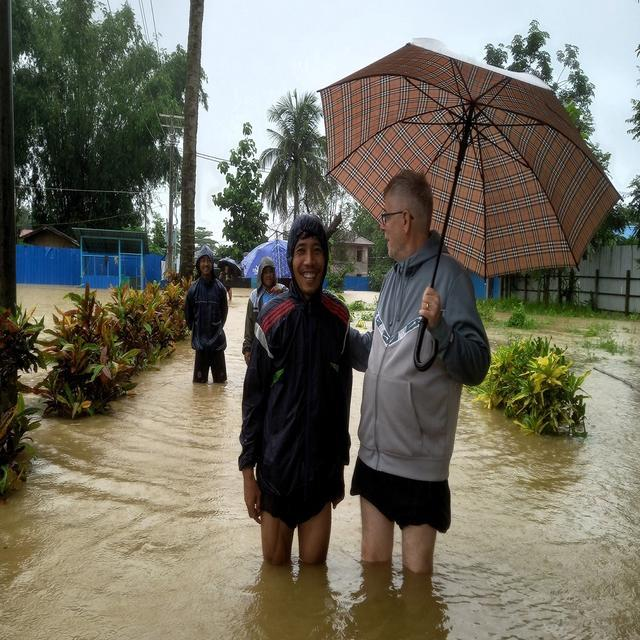Person-RiskLevel2: (352, 171, 493, 583), (234, 214, 374, 568), (184, 246, 231, 389), (239, 246, 288, 353)
